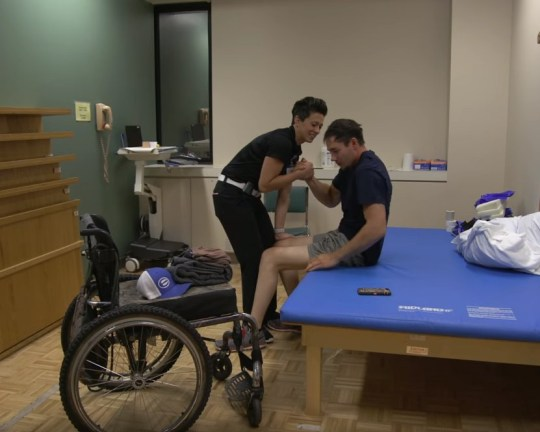Person: (243, 117, 391, 351), (197, 92, 328, 248)
